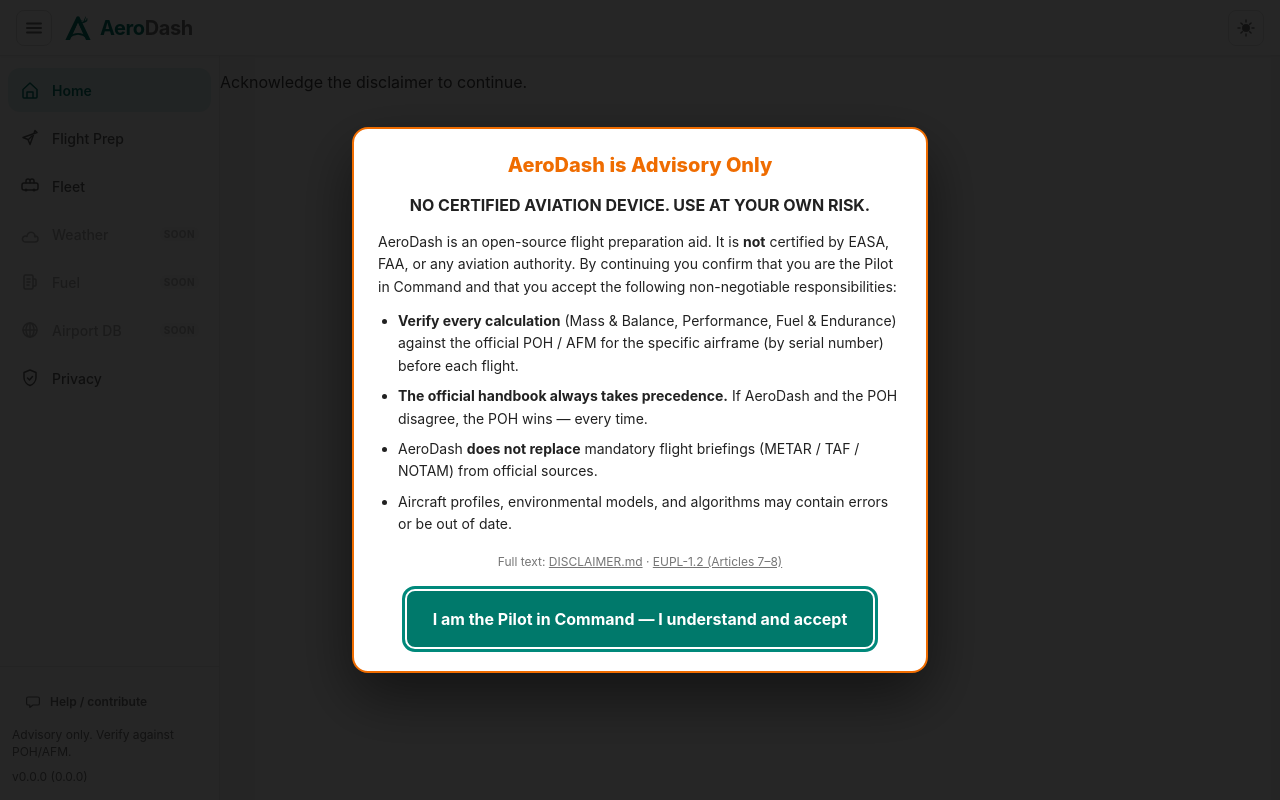
App.vue ↔ disclaimer-acknowledgement gate (REQ-SYS-016) › hides the gate after the pilot clicks "Accept" and persists the acceptance
Click the button with test id "disclaimer-gate-accept" at (640, 619), box [407,591,873,647]
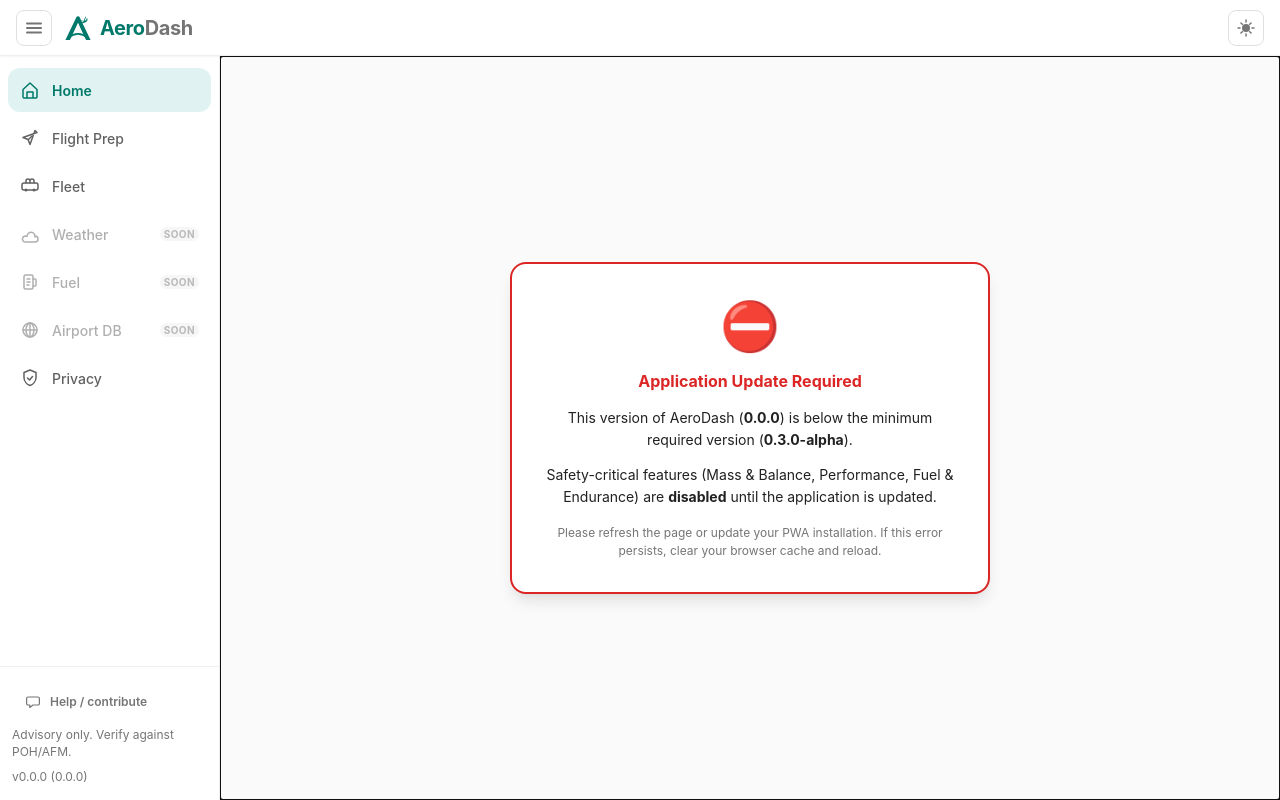
expect the dialog with test id "disclaimer-gate" is gone: met
